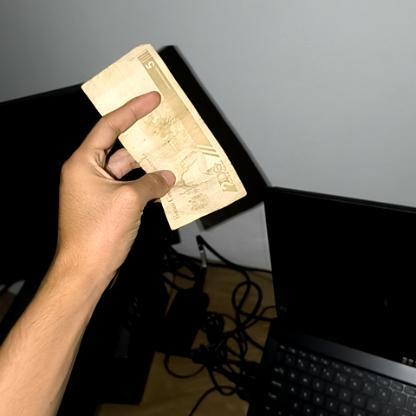five-back-vef: (80, 42, 248, 230)
